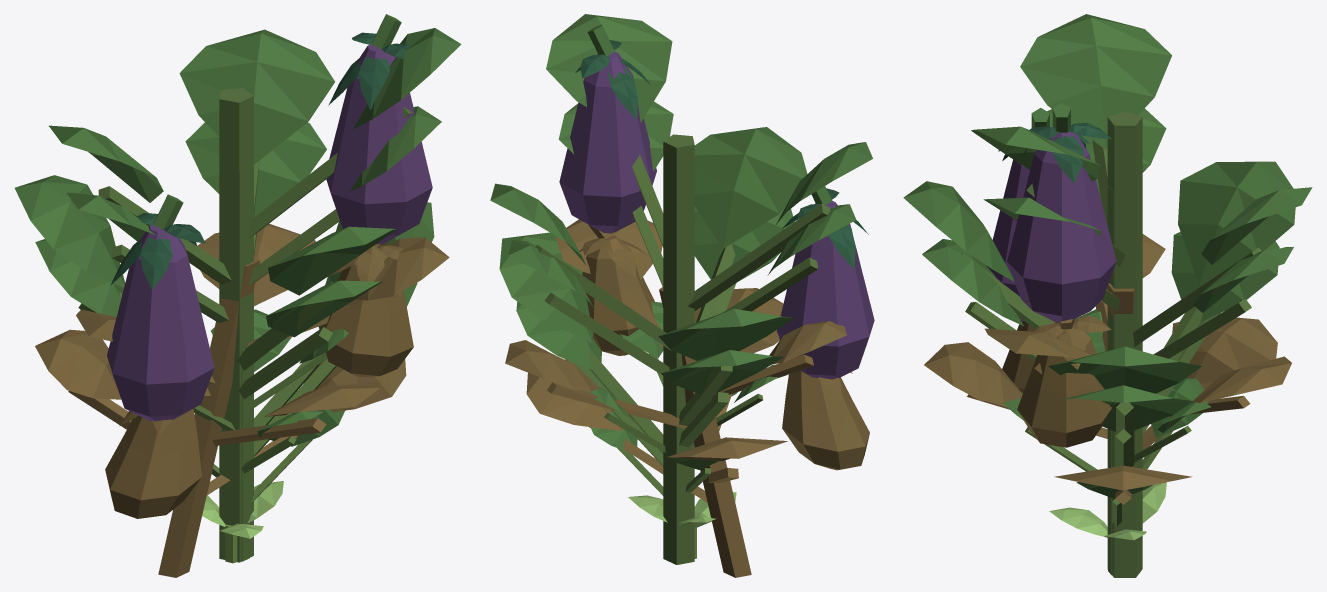
The model's file is autumn_eggplant.glb.
3 views of the same model, side by side, from view 1: azimuth 30°, elevation 25°; view 2: azimuth 150°, elevation 25°; view 3: azimuth 270°, elevation 25° (orthographic). The views are drawn at different scales.
Parts seen in each view (by area): view 1: stage3, dead, stage2, stage1, stage0; view 2: stage3, dead, stage2, stage1, stage0; view 3: stage3, dead, stage2, stage1, stage0.
Boxes of the visible parts, bbox=[...] form: stage3: bbox=[14, 14, 461, 562]; dead: bbox=[35, 223, 449, 577]; stage2: bbox=[35, 106, 441, 562]; stage1: bbox=[193, 309, 348, 561]; stage0: bbox=[202, 481, 283, 563]; stage3: bbox=[490, 14, 874, 564]; dead: bbox=[505, 219, 869, 577]; stage2: bbox=[508, 101, 856, 466]; stage1: bbox=[585, 301, 777, 495]; stage0: bbox=[628, 492, 736, 558]; stage3: bbox=[903, 14, 1312, 577]; dead: bbox=[924, 234, 1291, 504]; stage2: bbox=[922, 108, 1293, 577]; stage1: bbox=[1002, 309, 1210, 575]; stage0: bbox=[1049, 482, 1166, 540].
Bounding box in the file's own units: 0.6287 × 0.8249 × 0.5824.
